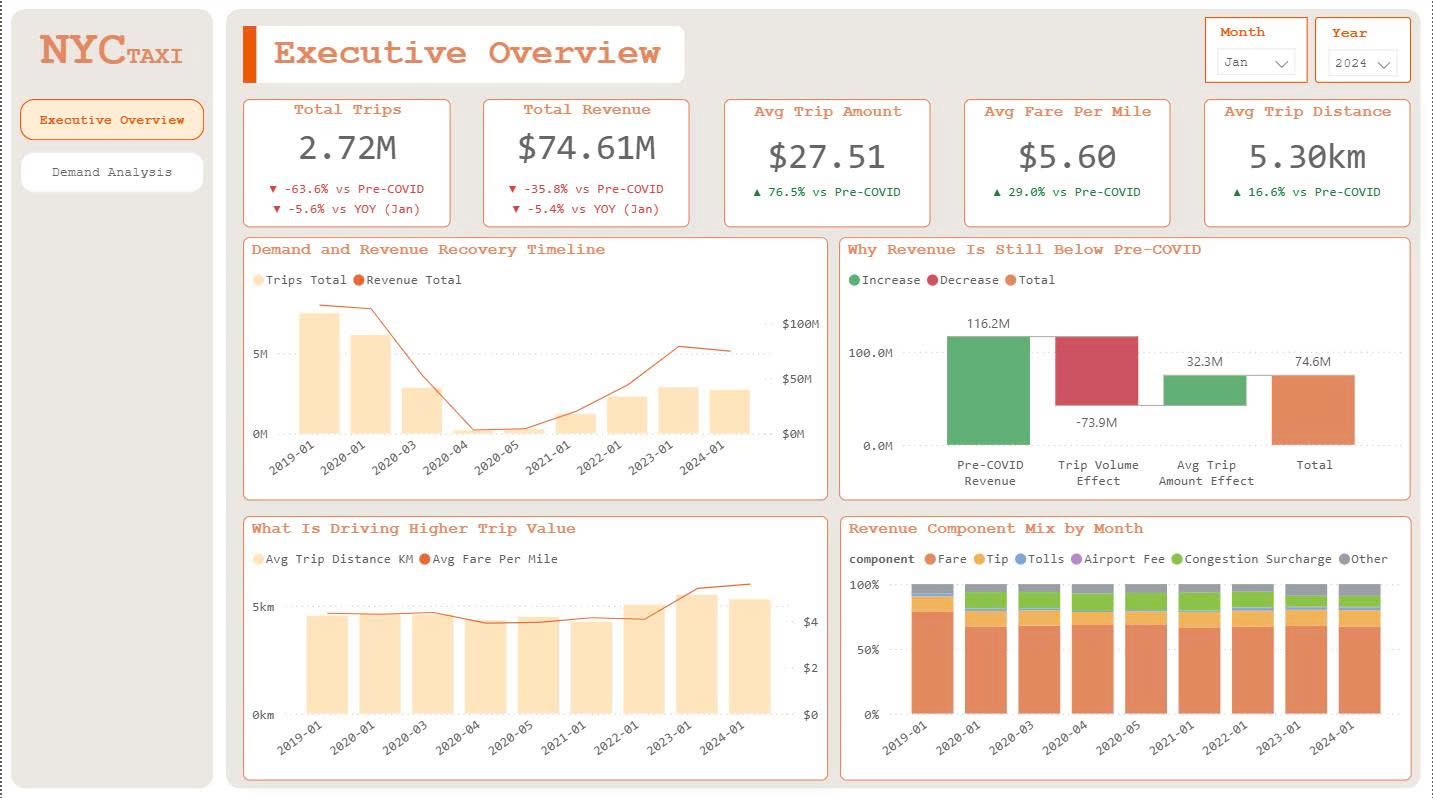

Layout of this report page (visuals, bound fields, positions):
{"tool":"powerbi","page":{"name":"Executive Overview","canvas":[1280,720],"ordinal":0},"visuals":[{"type":"shape","box":[201,12,1070,698],"z":0},{"type":"slicer","fields":{"Values":["dim_date.year"]},"box":[1176,19,86,59],"z":1000},{"type":"lineClusteredColumnComboChart","title":"Demand and Revenue Recovery Timeline","fields":{"Y":["_Measures_P1.Trips Total"],"Y2":["_Measures_P1.Revenue Total"],"Category":["dim_date.year_month"]},"box":[216,216,524,236],"z":2000},{"type":"waterfallChart","title":"Why Revenue Is Still Below Pre-COVID","fields":{"Category":["Revenue Bridge.bridge_step"],"Y":["_Measures_P1.Revenue Bridge Value"]},"box":[749.8,215.9,511.8,236.2],"z":3000},{"type":"shape","box":[8,12,181,698],"z":4000},{"type":"cardVisual","title":"Avg Fare Per Mile","fields":{"Data":["_Measures_P1.Avg Fare Per Mile"]},"box":[861.5,91.9,185,115.2],"z":5000},{"type":"pageNavigator","box":[16,92,165,85],"z":6000},{"type":"cardVisual","title":"Avg Trip Amount","fields":{"Data":["Avg(mart_daily_trip_revenue.avg_total_amount)"]},"box":[646.4,91.9,185,115.2],"z":7000},{"type":"slicer","fields":{"Values":["dim_date.month_name"]},"box":[1077,19,92,59],"z":8000},{"type":"cardVisual","title":"Avg Trip Distance","fields":{"Data":["_Measures_P1.Avg Trip Distance KM1"]},"box":[1076.5,91.9,185,115],"z":9000},{"type":"cardVisual","title":"Total Trips","fields":{"Data":["_Measures_P1.Trips Total"]},"box":[215.8,91.9,186,115],"z":10000},{"type":"cardVisual","title":"Total Revenue","fields":{"Data":["_Measures_P1.Revenue Total"]},"box":[431.1,91.9,185,115],"z":11000},{"type":"lineClusteredColumnComboChart","title":"What Is Driving Higher Trip Value","fields":{"Y":["_Measures_P1.Avg Trip Distance KM"],"Y2":["_Measures_P1.Avg Fare Per Mile"],"Category":["dim_date.year_month"]},"box":[216,466,524,237],"z":12000},{"type":"hundredPercentStackedColumnChart","title":"Revenue Component Mix by Month","fields":{"Category":["dim_date.year_month"],"Y":["_Measures_P1.Revenue Component Value"],"Series":["Revenue Component.component"]},"box":[750,466,512,237],"z":13000},{"type":"textbox","box":[26,19,145,59],"z":14000},{"type":"textbox","box":[222,27,389,51],"z":15000},{"type":"shape","box":[216,27,12,51],"z":16000}]}

Visuals, with their boxes in screenshot pixels (x1, y1, x2, y2), scaled from the page's 1280x720 canvas onto the 1433x798 screenshot:
shape: rect(225, 13, 1423, 787)
slicer - dim_date.year: rect(1317, 21, 1413, 86)
"Demand and Revenue Recovery Timeline" lineClusteredColumnComboChart: rect(242, 239, 828, 501)
"Why Revenue Is Still Below Pre-COVID" waterfallChart: rect(839, 239, 1412, 501)
shape: rect(9, 13, 212, 787)
"Avg Fare Per Mile" cardVisual: rect(964, 102, 1172, 230)
pageNavigator: rect(18, 102, 203, 196)
"Avg Trip Amount" cardVisual: rect(724, 102, 931, 230)
slicer - dim_date.month_name: rect(1206, 21, 1309, 86)
"Avg Trip Distance" cardVisual: rect(1205, 102, 1412, 229)
"Total Trips" cardVisual: rect(242, 102, 450, 229)
"Total Revenue" cardVisual: rect(483, 102, 690, 229)
"What Is Driving Higher Trip Value" lineClusteredColumnComboChart: rect(242, 516, 828, 779)
"Revenue Component Mix by Month" hundredPercentStackedColumnChart: rect(840, 516, 1413, 779)
textbox: rect(29, 21, 191, 86)
textbox: rect(249, 30, 684, 86)
shape: rect(242, 30, 255, 86)
